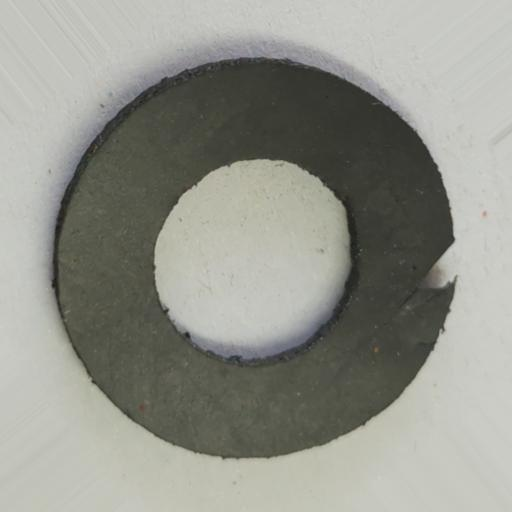defect: (404, 237, 459, 311)
